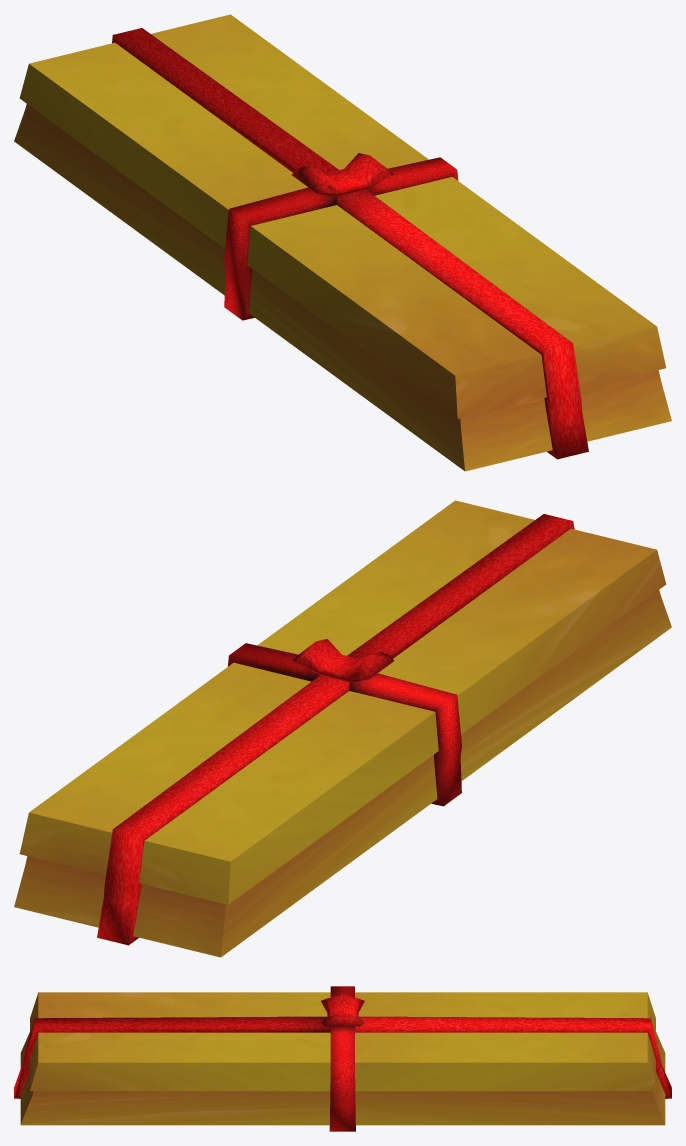
The model's file is present1.DAE.
3 renders of one model, top to bottom at view 1: azimuth 30°, elevation 25°; view 2: azimuth 150°, elevation 25°; view 3: azimuth 270°, elevation 25°, orthographic. The views are drawn at different scales.
Visible parts, largest first — view 1: MESH04; view 2: MESH04; view 3: MESH04.
Boxes of the visible parts, box(x1,y1,x2,y2) form: MESH04: box(14, 14, 671, 471); MESH04: box(14, 500, 671, 957); MESH04: box(14, 986, 671, 1131).
Size of the model in its own units: 0.252 by 0.9114 by 0.1393.
1 material, 1 textured.
